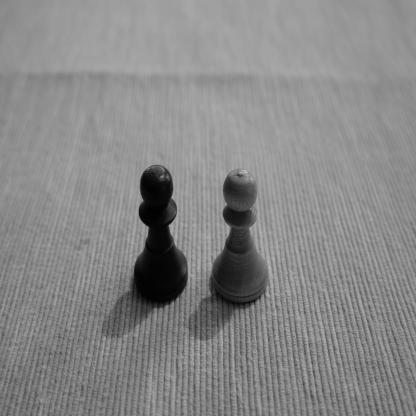black-pawn: (134, 163, 188, 304)
white-pawn: (210, 166, 270, 307)
